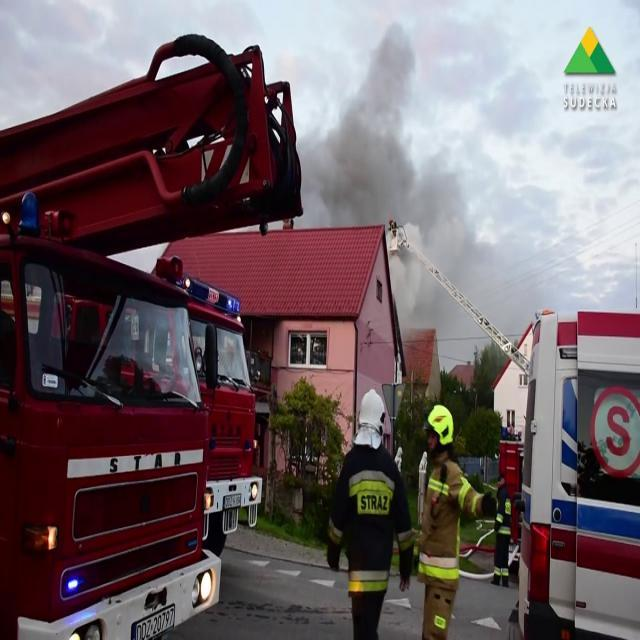Smoke: (295, 17, 457, 235), (418, 153, 577, 339)
